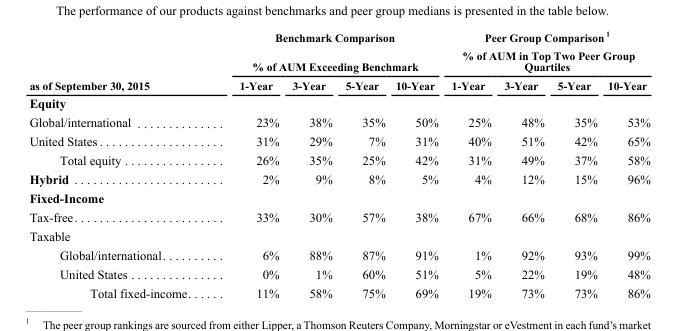table: (28, 29, 649, 299)
table column: (28, 29, 214, 299), (214, 29, 285, 299), (389, 29, 444, 299), (285, 29, 338, 299), (444, 29, 497, 299), (497, 29, 550, 299), (338, 29, 389, 299), (550, 29, 601, 299), (601, 29, 649, 299)
table column header: (28, 29, 649, 93)
table projected row header: (28, 93, 649, 112), (28, 188, 649, 207), (28, 226, 649, 245)
table row: (28, 29, 649, 75), (28, 93, 649, 112), (28, 112, 649, 131), (28, 131, 649, 150), (28, 150, 649, 169), (28, 169, 649, 188), (28, 188, 649, 207), (28, 207, 649, 226), (28, 226, 649, 245), (28, 245, 649, 264), (28, 264, 649, 283), (28, 75, 649, 93), (28, 283, 649, 299)
table spanning cell: (28, 29, 214, 93), (214, 29, 444, 75), (444, 29, 649, 75)
